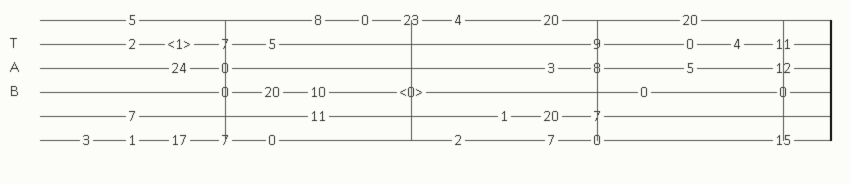0: (221, 61, 233, 75), (221, 85, 233, 99), (268, 133, 280, 147), (361, 13, 373, 27), (593, 133, 605, 147), (640, 85, 652, 99), (686, 37, 698, 51), (779, 85, 791, 99)
1: (128, 133, 140, 147), (500, 109, 512, 123)
10: (310, 85, 330, 99)
11: (310, 109, 330, 123), (775, 37, 795, 51)
12: (775, 61, 795, 75)
15: (775, 133, 795, 147)
17: (171, 133, 191, 147)
2: (128, 37, 140, 51), (454, 133, 466, 147)
20: (264, 85, 284, 99), (543, 13, 563, 27), (543, 109, 563, 123), (682, 13, 702, 27)
23: (403, 13, 423, 27)
24: (171, 61, 191, 75)
3: (82, 133, 94, 147), (547, 61, 559, 75)
4: (454, 13, 466, 27), (733, 37, 745, 51)
5: (128, 13, 140, 27), (268, 37, 280, 51), (686, 61, 698, 75)
7: (128, 109, 140, 123), (221, 37, 233, 51), (221, 133, 233, 147), (547, 133, 559, 147), (593, 109, 605, 123)
8: (314, 13, 326, 27), (593, 61, 605, 75)
9: (593, 37, 605, 51)
harmonic: (167, 37, 195, 51), (399, 85, 427, 99)
